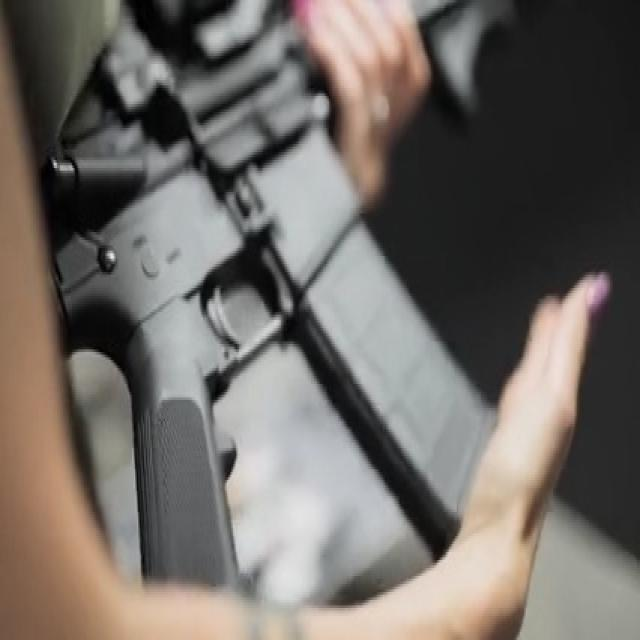Gun_Holder: (47, 27, 601, 596)
